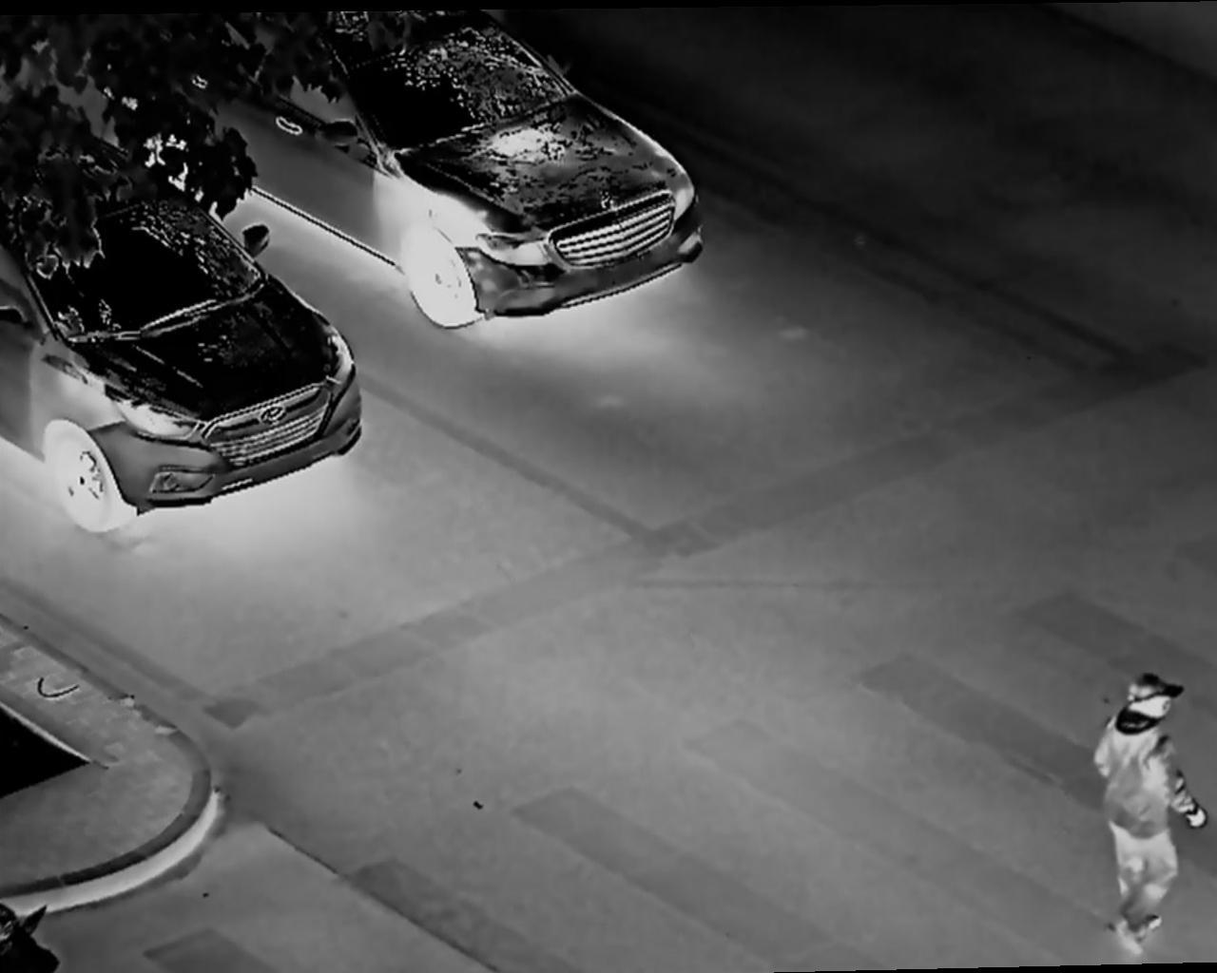person: (1087, 673, 1213, 968)
